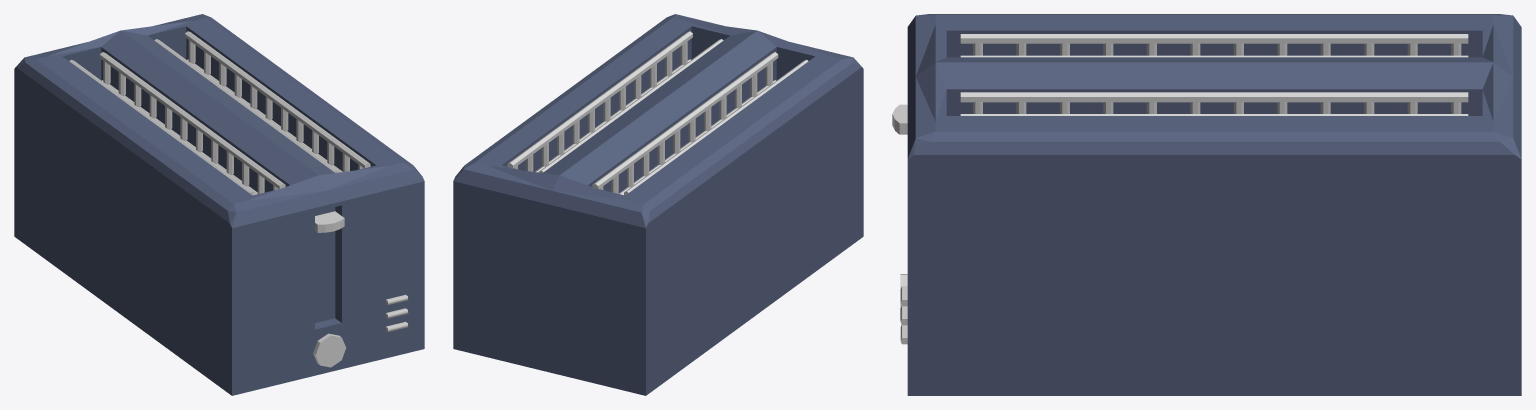
File: toaster.fbx
The picture shows the model from 3 angles, left to right: view 1: azimuth 30°, elevation 25°; view 2: azimuth 150°, elevation 25°; view 3: azimuth 270°, elevation 25°; orthographic projection. The views are drawn at different scales.
Parts seen in each view (by area): view 1: Cube, Cylinder.004, Cylinder.001, Cylinder.002, Cylinder.003, Cylinder, Cube.003, Cube.002; view 2: Cube, Cylinder.004, Cylinder.001, Cylinder.002, Cylinder.003; view 3: Cube, Cylinder.002, Cylinder.003, Cylinder.004, Cylinder.001.
Part boxes in pixels (x1=…): Cube: x1=14, y1=14, x2=424, y2=395; Cylinder.004: x1=99, y1=52, x2=285, y2=194; Cylinder.001: x1=185, y1=31, x2=370, y2=172; Cylinder.002: x1=154, y1=39, x2=339, y2=172; Cylinder.003: x1=69, y1=59, x2=253, y2=195; Cylinder: x1=313, y1=333, x2=346, y2=367; Cube.003: x1=315, y1=211, x2=344, y2=232; Cube.002: x1=385, y1=294, x2=408, y2=332; Cube: x1=453, y1=14, x2=863, y2=395; Cylinder.004: x1=592, y1=52, x2=778, y2=194; Cylinder.001: x1=507, y1=31, x2=692, y2=172; Cylinder.002: x1=538, y1=39, x2=723, y2=172; Cylinder.003: x1=624, y1=59, x2=808, y2=195; Cube: x1=907, y1=14, x2=1521, y2=395; Cylinder.002: x1=960, y1=92, x2=1468, y2=113; Cylinder.003: x1=960, y1=34, x2=1468, y2=55; Cylinder.004: x1=960, y1=55, x2=1468, y2=57; Cylinder.001: x1=960, y1=114, x2=1468, y2=115.
Bounding box in the file's own units: 15.48 × 14.57 × 31.05.
